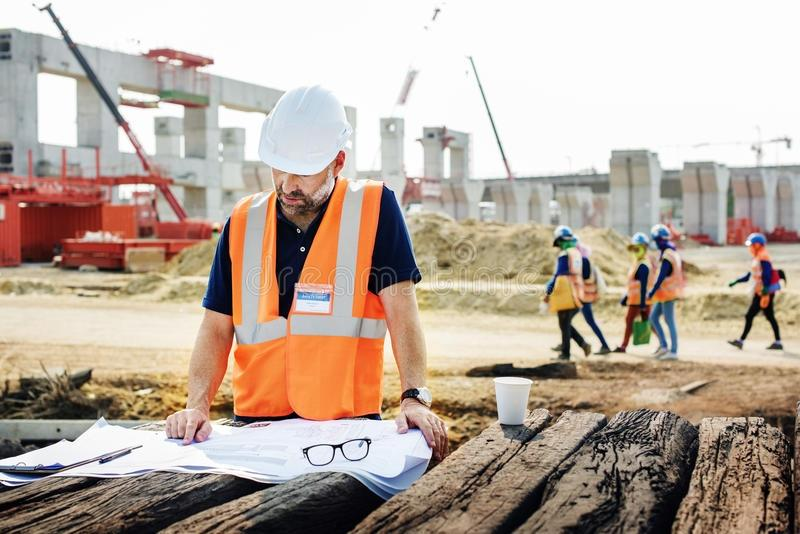helmet: (255, 85, 350, 178), (553, 225, 575, 245), (744, 230, 768, 247), (650, 225, 673, 242), (629, 232, 652, 248)
wear: (228, 207, 386, 421), (558, 251, 585, 305), (656, 249, 684, 301), (627, 263, 652, 308), (750, 252, 774, 298), (583, 257, 598, 305)
